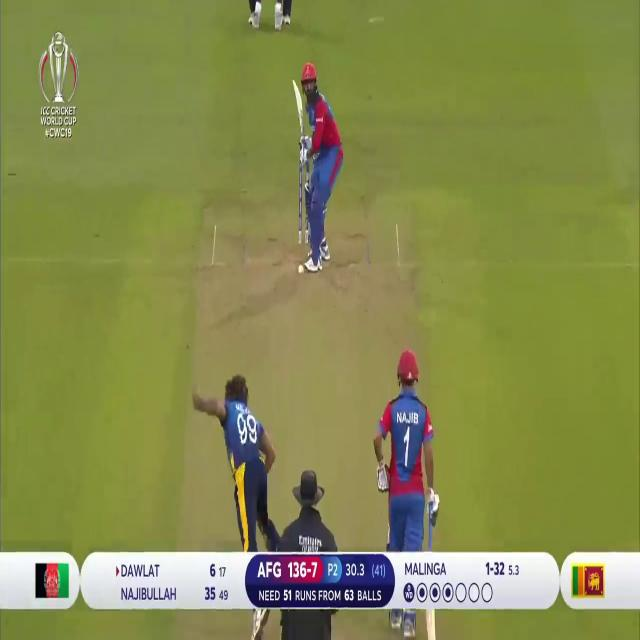ball: (298, 262, 304, 276)
